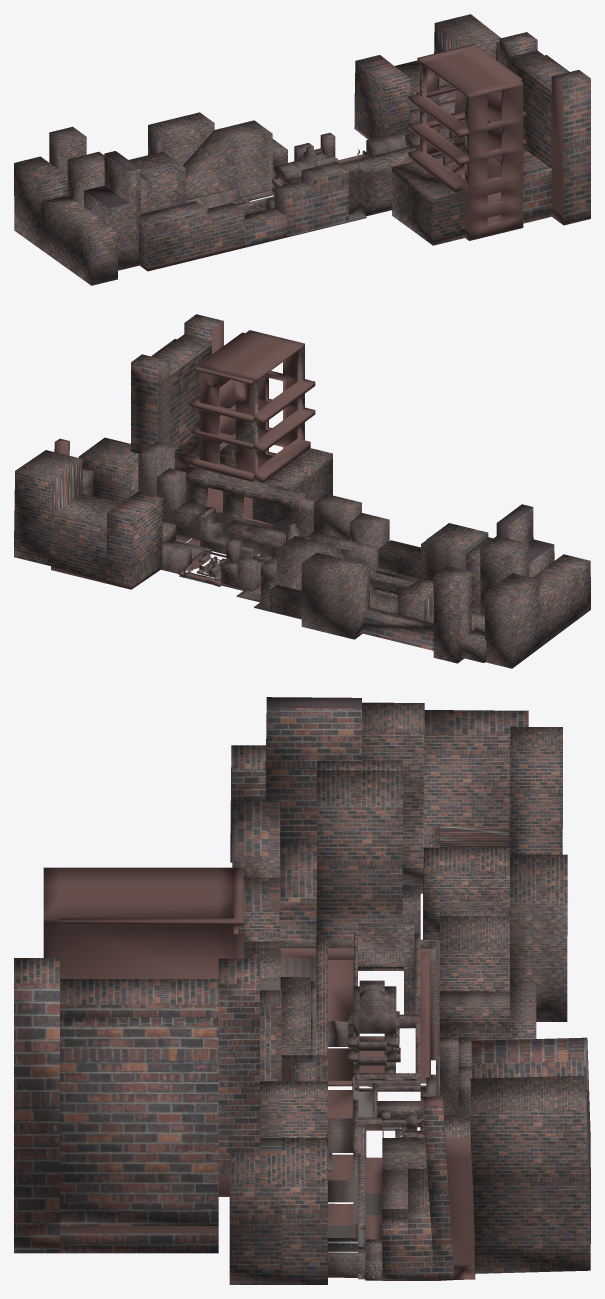
Rendered from decor.obj.
The picture shows the model from 3 angles, top to bottom: view 1: azimuth 30°, elevation 25°; view 2: azimuth 150°, elevation 25°; view 3: azimuth 270°, elevation 25°; orthographic projection. The views are drawn at different scales.
Visible parts, largest first — view 1: decor_Cube.008; view 2: decor_Cube.008; view 3: decor_Cube.008.
Part boxes in pixels (x1,y1,x2,y2): decor_Cube.008: [14, 14, 590, 285]; decor_Cube.008: [14, 314, 590, 668]; decor_Cube.008: [14, 697, 590, 1284].
Size of the model in its own units: 23242 by 6903 by 12674.
2 materials, 2 textured.
